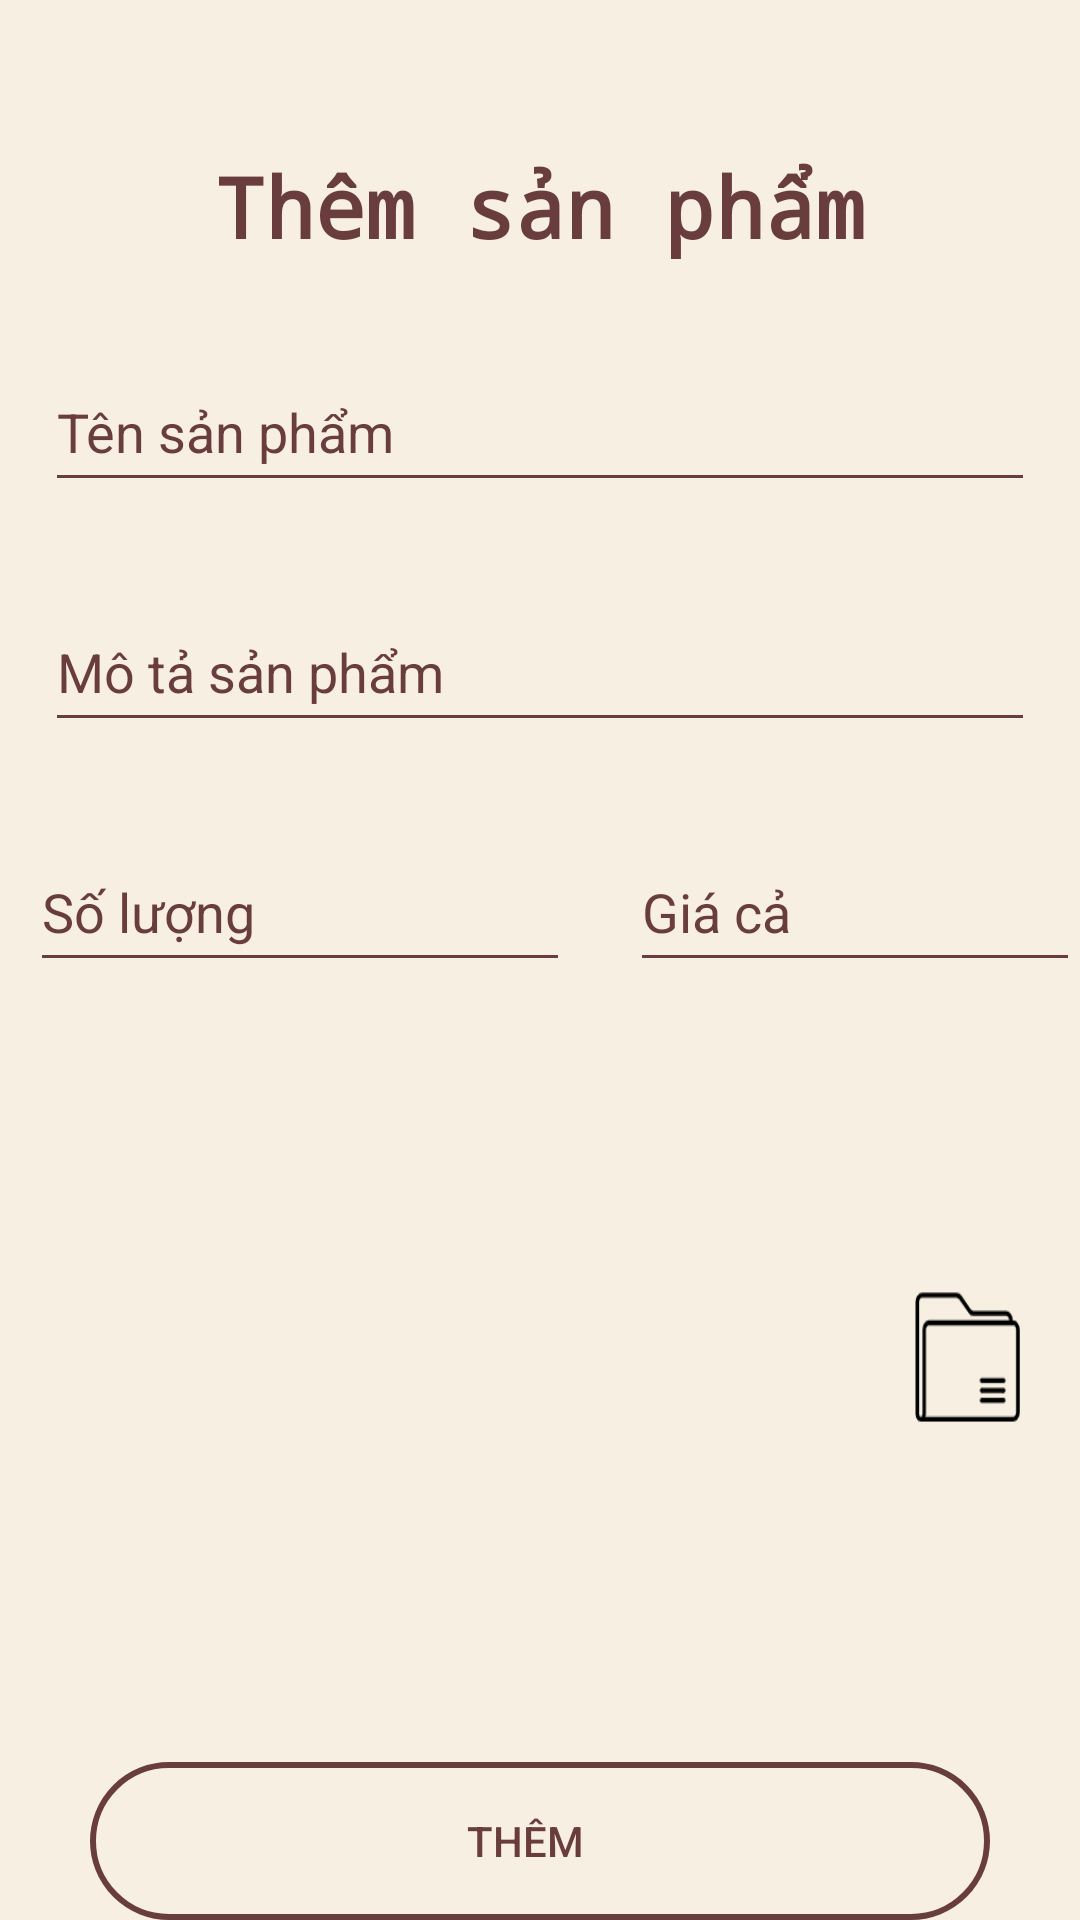

Icons on this 1080 × 1920 Android screen, each with its box as region(x1, y1, x2, y2):
folder: region(915, 1292, 1020, 1422)
